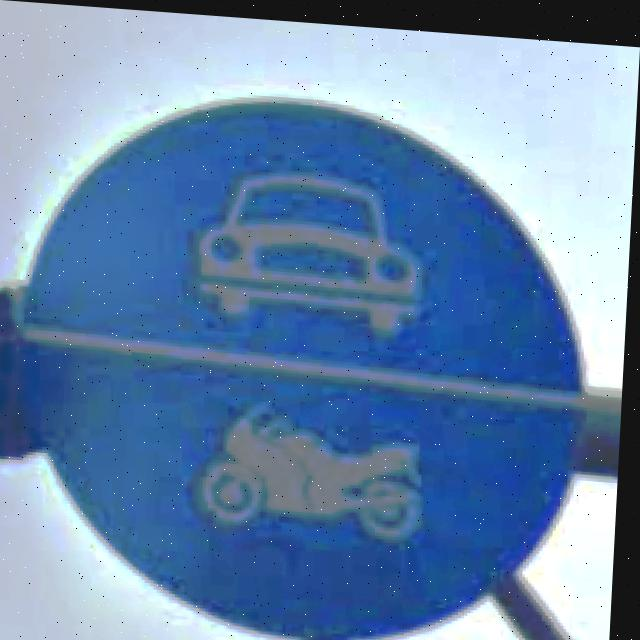carmotorcycle: (29, 94, 592, 636)
